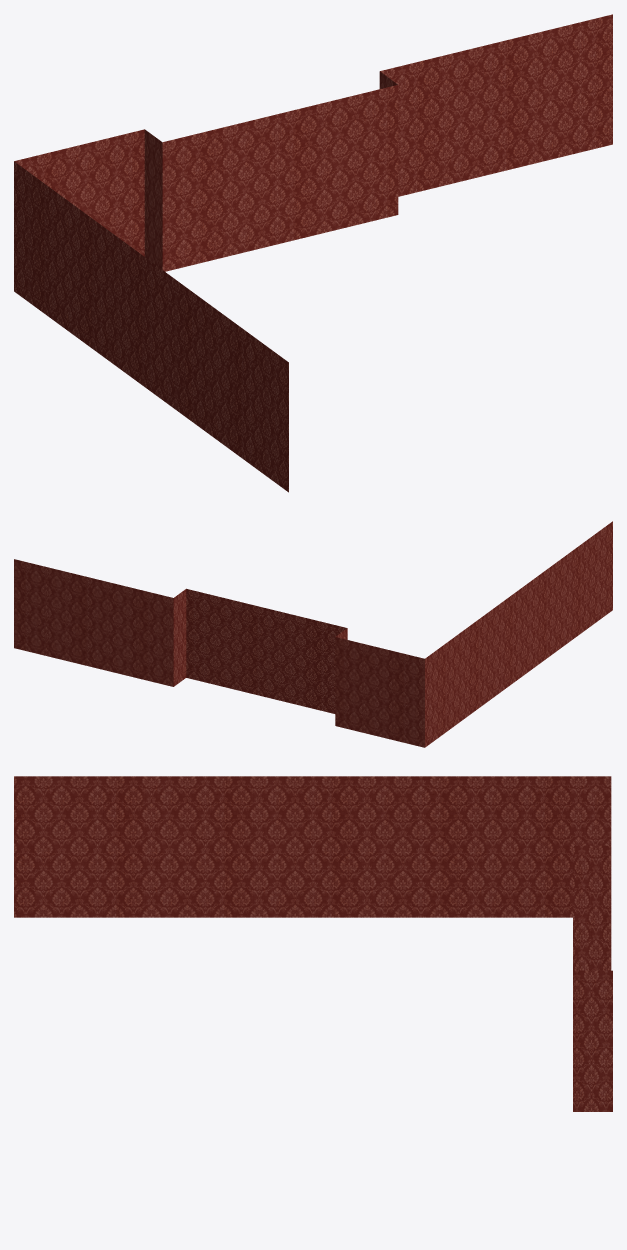
Rendered from Wallpaper.obj.
3 renders of one model, top to bottom at view 1: azimuth 30°, elevation 25°; view 2: azimuth 150°, elevation 25°; view 3: azimuth 270°, elevation 25°, orthographic. The views are drawn at different scales.
Visible parts, largest first — view 1: Wallpaper; view 2: Wallpaper; view 3: Wallpaper.
Part boxes in pixels (box(x1,y1,x2,y2)): Wallpaper: box(14, 14, 612, 492); Wallpaper: box(14, 521, 612, 747); Wallpaper: box(14, 776, 612, 1111).
Size of the model in its own units: 6.34 by 1.31 by 5.05.
